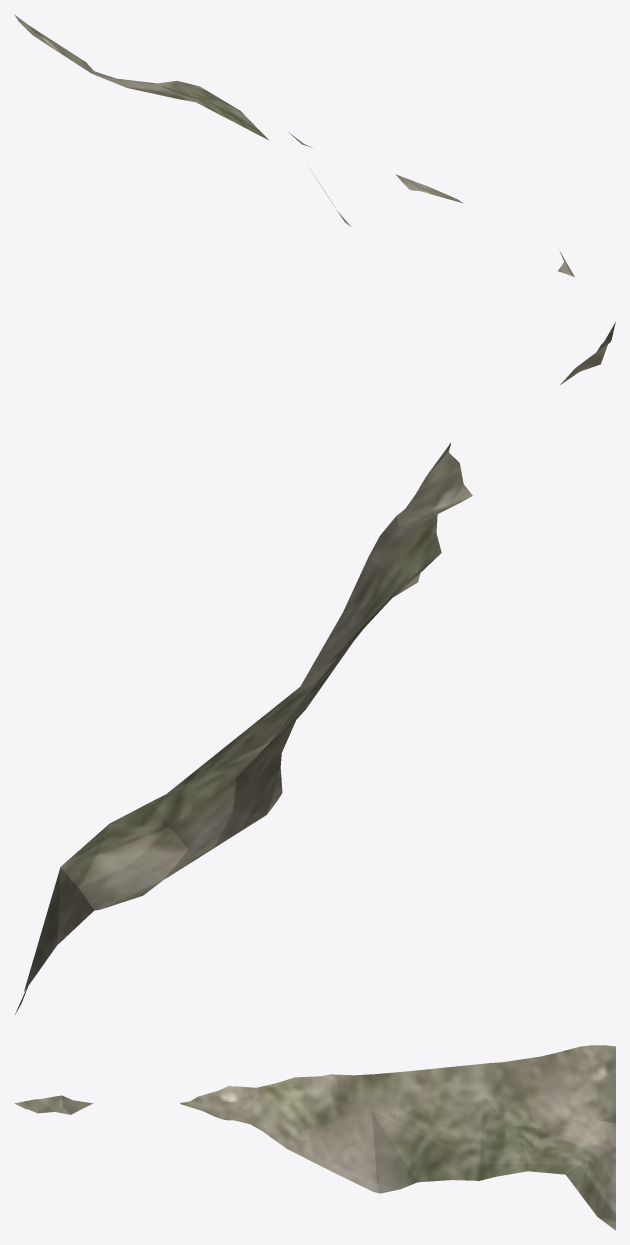
The picture shows the model from 3 angles, top to bottom: view 1: azimuth 30°, elevation 25°; view 2: azimuth 150°, elevation 25°; view 3: azimuth 270°, elevation 25°; orthographic projection. The views are drawn at different scales.
Size of the model in its own units: 0.5342 by 0.5452 by 2.34.
Materials: 1 (1 with a texture image).
